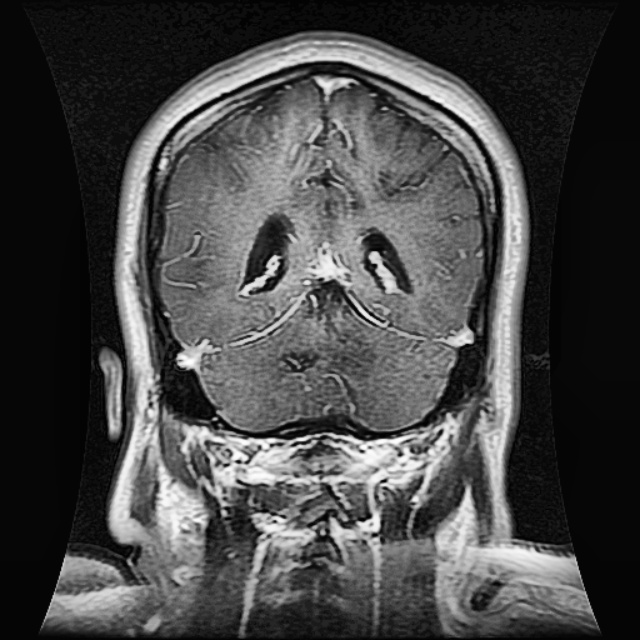Meningioma: (298, 238, 363, 323)
